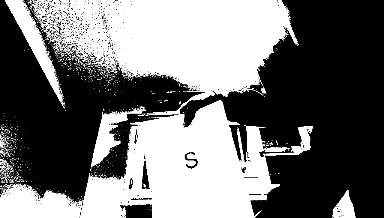S: (180, 149, 203, 169)
